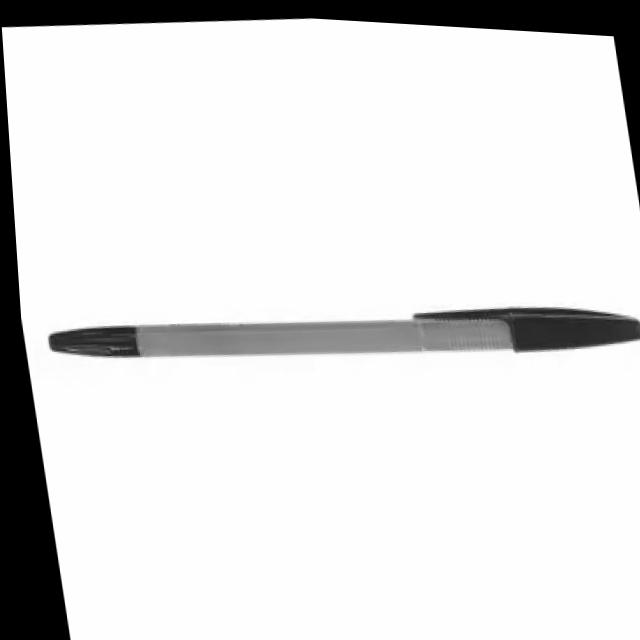pen: (42, 264, 640, 406)
